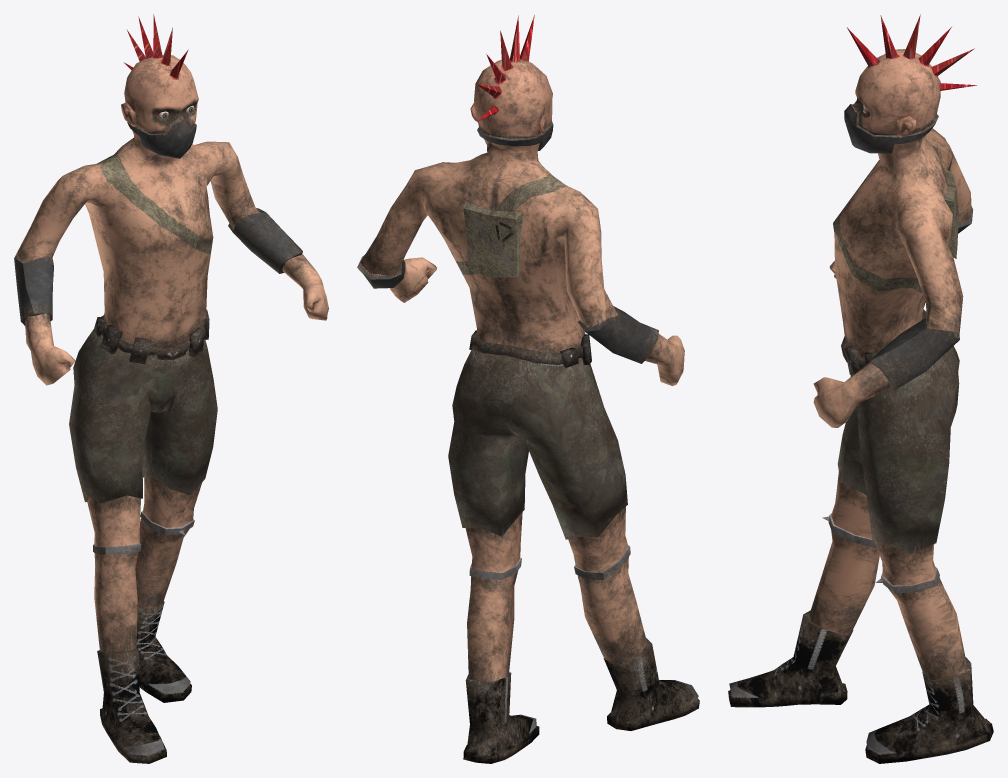
The model's file is Anim_ataque_d3_npc2.0040.obj.
The picture shows the model from 3 angles, left to right: view 1: azimuth 30°, elevation 25°; view 2: azimuth 150°, elevation 25°; view 3: azimuth 270°, elevation 25°; orthographic projection. The views are drawn at different scales.
Visible parts, largest first — view 1: polySurface1; view 2: polySurface1; view 3: polySurface1.
Part boxes in pixels (x1,y1,x2,y2): polySurface1: (14,14,328,763); polySurface1: (357,15,699,763); polySurface1: (728,14,993,763).
Bounding box in the file's own units: 4.5 × 10.22 × 3.32.
